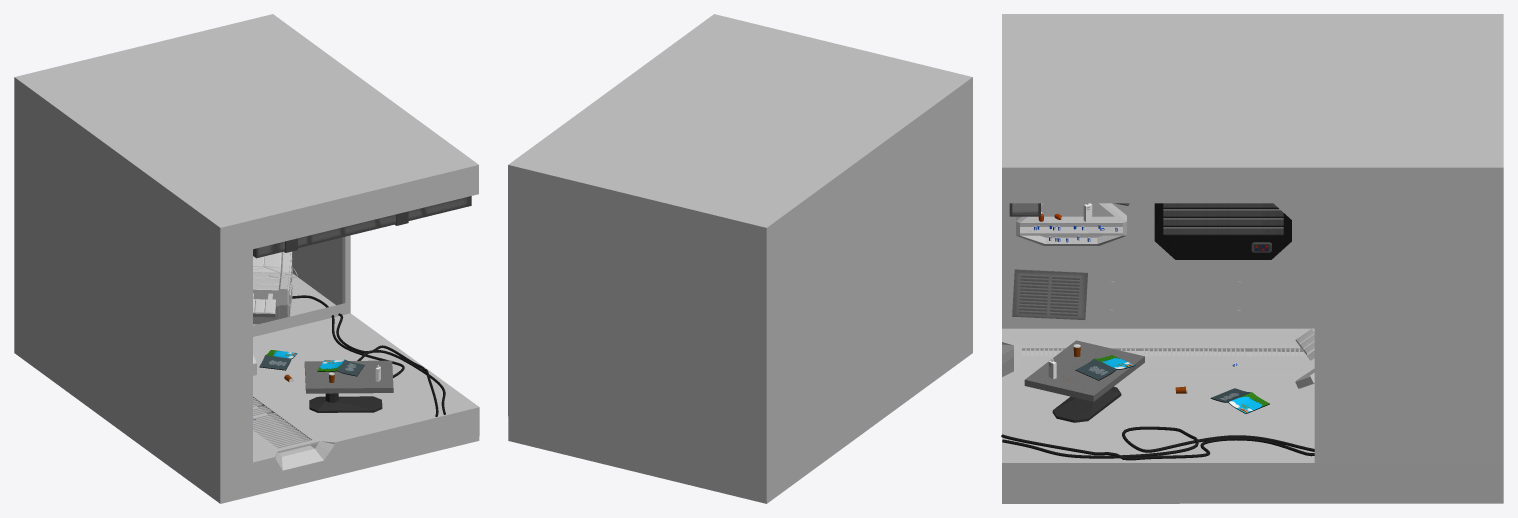
Rendered from Room.fbx.
The picture shows the model from 3 angles, left to right: view 1: azimuth 30°, elevation 25°; view 2: azimuth 150°, elevation 25°; view 3: azimuth 270°, elevation 25°; orthographic projection. The views are drawn at different scales.
Visible parts, largest first — view 1: pCube192, polySurface315, polySurface371, pCube191, pCylinder88; view 2: pCube192; view 3: pCube192, pCube188, polySurface315, pCylinder88, pCylinder90, polySurface371.
Boxes of the visible parts, x1=… form: pCube192: x1=14, y1=14, x2=479, y2=503; polySurface315: x1=259, y1=350, x2=393, y2=412; polySurface371: x1=253, y1=251, x2=297, y2=324; pCube191: x1=253, y1=196, x2=471, y2=258; pCylinder88: x1=292, y1=295, x2=445, y2=416; pCube192: x1=508, y1=14, x2=972, y2=503; pCube192: x1=1002, y1=14, x2=1503, y2=503; pCube188: x1=1016, y1=203, x2=1291, y2=259; polySurface315: x1=1012, y1=269, x2=1269, y2=422; pCylinder88: x1=1001, y1=426, x2=1314, y2=460; pCylinder90: x1=1034, y1=203, x2=1237, y2=393; polySurface371: x1=1295, y1=328, x2=1314, y2=388.
Bounding box in the file's own units: 889 × 905 × 1226.
